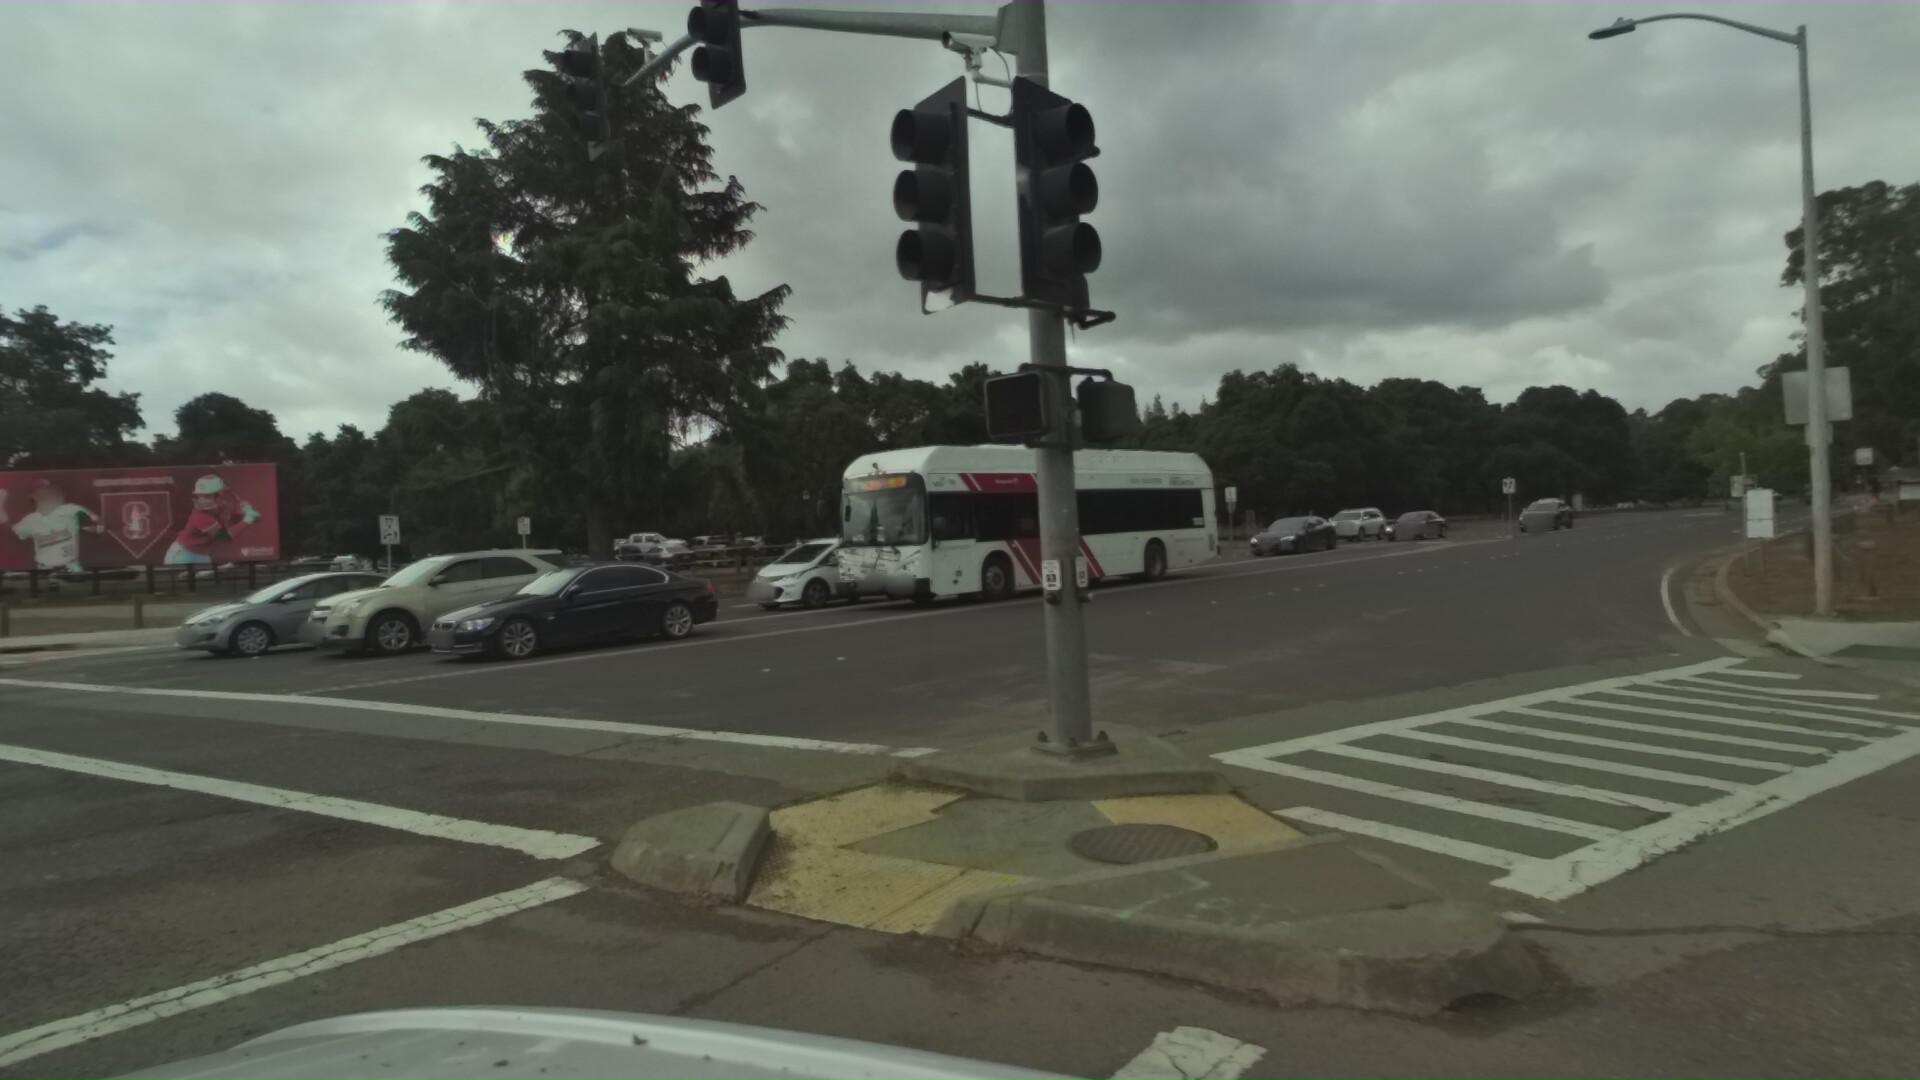bus: (814, 419, 1240, 616)
car: (294, 537, 605, 665), (423, 547, 748, 665), (158, 558, 455, 665), (746, 525, 935, 609), (1251, 509, 1348, 556), (1383, 502, 1455, 541), (1323, 501, 1394, 538), (1516, 492, 1578, 530)
